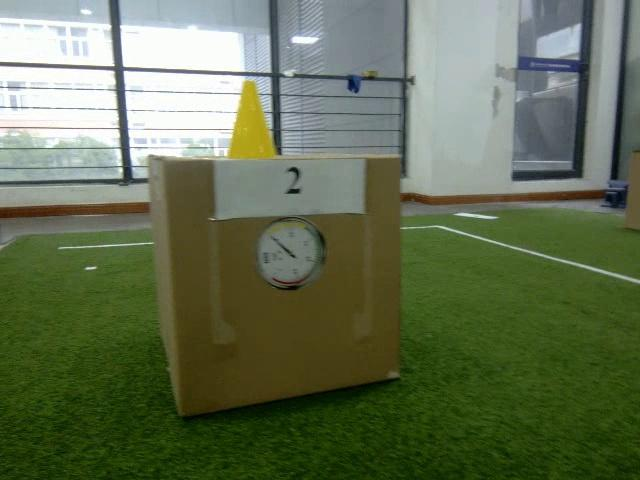2: (280, 164, 304, 198)
Dashboard: (254, 218, 328, 293)
ssi: (261, 250, 270, 267)
yellow_barrel: (224, 78, 280, 160)
